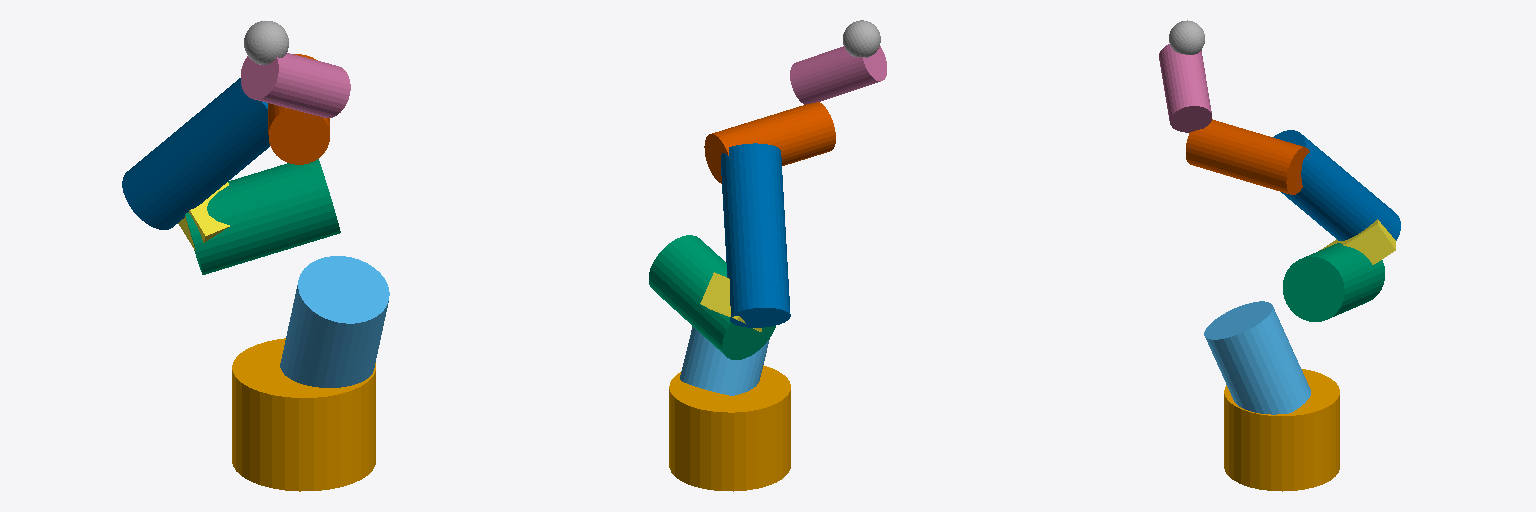
robot.urdf — testarm:
<?xml version="1.0"?>
<!--
  testarm - a deliberately AWKWARD robot, built as a test fixture.

  arm6 and arm7 are pretty: every joint origin is a pure translation along z
  and every axis is x, y or z.  That makes them easy to read - and useless for
  testing, because several classic kinematics bugs are INVISIBLE on a robot
  whose origin rotations are all identity.  Transpose a rotation that happens
  to be the identity and nothing changes.

  So this robot breaks every symmetry on purpose:
    * every joint origin has a non-zero rpy (a real rotation, not just a shift)
    * joint axes point in arbitrary directions, not along x/y/z
    * one axis is written NON-UNIT ("0 2 0") - a loader that forgets to
      normalise it will silently double that joint's angle
    * one joint is PRISMATIC (it slides instead of turning)
    * the tree BRANCHES: link2 carries both the rest of the arm and a camera

  Nothing here needs to look like a real machine.  It needs to make wrong code
  produce a visibly wrong answer, which is a completely different goal.
-->
<robot name="testarm">

  <link name="base_link">
    <inertial><origin xyz="0 0 0.05"/><mass value="2.0"/>
      <inertia ixx="0.01" ixy="0" ixz="0" iyy="0.01" iyz="0" izz="0.01"/></inertial>
    <visual><origin xyz="0 0 0.05"/>
      <geometry><cylinder radius="0.07" length="0.10"/></geometry></visual>
  </link>

  <link name="link1">
    <inertial><origin xyz="0 0 0.05"/><mass value="1.0"/>
      <inertia ixx="0.005" ixy="0" ixz="0" iyy="0.005" iyz="0" izz="0.005"/></inertial>
    <visual><origin xyz="0 0 0.05"/>
      <geometry><cylinder radius="0.045" length="0.12"/></geometry></visual>
  </link>

  <link name="link2">
    <inertial><origin xyz="0 0.05 0"/><mass value="1.0"/>
      <inertia ixx="0.005" ixy="0" ixz="0" iyy="0.005" iyz="0" izz="0.005"/></inertial>
    <visual><origin xyz="0 0.05 0" rpy="1.5708 0 0"/>
      <geometry><cylinder radius="0.040" length="0.14"/></geometry></visual>
  </link>

  <link name="camera_link">
    <inertial><origin xyz="0 0 0"/><mass value="0.2"/>
      <inertia ixx="0.0005" ixy="0" ixz="0" iyy="0.0005" iyz="0" izz="0.0005"/></inertial>
    <visual><origin xyz="0 0 0"/>
      <geometry><box size="0.05 0.09 0.04"/></geometry></visual>
  </link>

  <link name="link3">
    <inertial><origin xyz="0 0 0.09"/><mass value="0.8"/>
      <inertia ixx="0.004" ixy="0" ixz="0" iyy="0.004" iyz="0" izz="0.004"/></inertial>
    <visual><origin xyz="0 0 0.09"/>
      <geometry><cylinder radius="0.035" length="0.20"/></geometry></visual>
  </link>

  <link name="link4">
    <inertial><origin xyz="0 0 0.06"/><mass value="0.6"/>
      <inertia ixx="0.002" ixy="0" ixz="0" iyy="0.002" iyz="0" izz="0.002"/></inertial>
    <visual><origin xyz="0 0 0.06"/>
      <geometry><cylinder radius="0.030" length="0.14"/></geometry></visual>
  </link>

  <link name="link5">
    <inertial><origin xyz="0 0 0.04"/><mass value="0.4"/>
      <inertia ixx="0.001" ixy="0" ixz="0" iyy="0.001" iyz="0" izz="0.001"/></inertial>
    <visual><origin xyz="0 0 0.04"/>
      <geometry><cylinder radius="0.026" length="0.10"/></geometry></visual>
  </link>

  <link name="tool0">
    <inertial><origin xyz="0 0 0"/><mass value="0.1"/>
      <inertia ixx="0.0001" ixy="0" ixz="0" iyy="0.0001" iyz="0" izz="0.0001"/></inertial>
    <visual><origin xyz="0 0 0"/><geometry><sphere radius="0.022"/></geometry></visual>
  </link>

  <joint name="j1" type="revolute">
    <parent link="base_link"/><child link="link1"/>
    <origin xyz="0.02 -0.01 0.10" rpy="0.20 -0.35 0.90"/>
    <axis xyz="0.3 0.5 0.81"/>
    <limit lower="-2.5" upper="2.5" effort="50" velocity="3"/>
  </joint>

  <!-- A PRISMATIC joint slides along its axis instead of turning about it, so
       its joint value is a length in metres, not an angle in radians. -->
  <joint name="j2_slide" type="prismatic">
    <parent link="link1"/><child link="link2"/>
    <origin xyz="0.10 0.05 0.12" rpy="-0.40 0.60 0.15"/>
    <axis xyz="0 1 0"/>
    <limit lower="0.0" upper="0.15" effort="50" velocity="0.5"/>
  </joint>

  <!-- The branch: a fixed camera bracket hanging off link2. -->
  <joint name="camera_mount" type="fixed">
    <parent link="link2"/><child link="camera_link"/>
    <origin xyz="0.0 0.10 0.03" rpy="0.9 0.0 -1.2"/>
  </joint>

  <!-- Axis written as "0 2 0": length 2, not 1.  A loader that forgets to
       normalise turns this joint through TWICE the commanded angle. -->
  <joint name="j3" type="revolute">
    <parent link="link2"/><child link="link3"/>
    <origin xyz="0.0 0.14 0.05" rpy="1.10 0.20 -0.70"/>
    <axis xyz="0 2 0"/>
    <limit lower="-2.2" upper="2.2" effort="40" velocity="3"/>
  </joint>

  <joint name="j4" type="revolute">
    <parent link="link3"/><child link="link4"/>
    <origin xyz="0.03 0.0 0.19" rpy="0.30 -1.20 0.25"/>
    <axis xyz="1 0 0"/>
    <limit lower="-2.0" upper="2.0" effort="30" velocity="3"/>
  </joint>

  <joint name="j5" type="revolute">
    <parent link="link4"/><child link="link5"/>
    <origin xyz="0.05 0.02 0.13" rpy="-0.90 0.40 0.60"/>
    <axis xyz="0 0 1"/>
    <limit lower="-2.8" upper="2.8" effort="20" velocity="3"/>
  </joint>

  <joint name="tool_fixed" type="fixed">
    <parent link="link5"/><child link="tool0"/>
    <origin xyz="0.03 0.0 0.09" rpy="0.40 0.20 -0.50"/>
  </joint>

</robot>

--- Render facts (derived) ---
3 views of the same robot in one strip: view 1: azimuth 30°, elevation 25°; view 2: azimuth 150°, elevation 25°; view 3: azimuth 270°, elevation 25° (orthographic).
Model testarm with 8 links and 7 joints (4 revolute, 1 prismatic, 2 fixed), rooted at base_link, posed every joint at zero.
Visible links, largest first — view 1: base_link, link3, link1, link2, link5, link4, tool0, camera_link; view 2: base_link, link3, link2, link4, link5, link1, tool0, camera_link; view 3: base_link, link1, link3, link2, link4, link5, camera_link, tool0.
Boxes of the visible links, x1,y1,x2,y2 form: base_link: (232,338,375,491); link3: (122,78,269,229); link1: (280,256,389,387); link2: (185,159,340,274); link5: (241,53,350,117); link4: (268,54,329,164); tool0: (244,21,288,64); camera_link: (178,182,229,250); base_link: (669,365,790,491); link3: (721,143,790,327); link2: (649,235,775,359); link4: (704,102,835,183); link5: (790,46,886,104); link1: (680,326,769,395); tool0: (843,20,880,57); camera_link: (700,272,761,331); base_link: (1224,369,1339,491); link1: (1204,301,1310,414); link3: (1273,130,1400,240); link2: (1283,243,1384,321); link4: (1186,119,1309,194); link5: (1159,44,1211,132); camera_link: (1319,219,1395,264); tool0: (1169,20,1204,54).
Bounding box of the posed robot: 0.2082 × 0.2918 × 0.5409 m (x, y, z).
Geometry: primitives only (box / cylinder / sphere), no mesh files.
